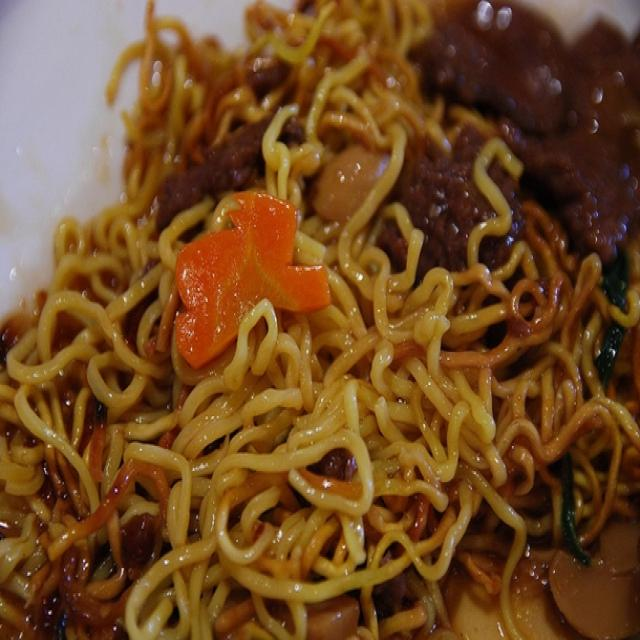面条主食: (5, 12, 632, 623)
